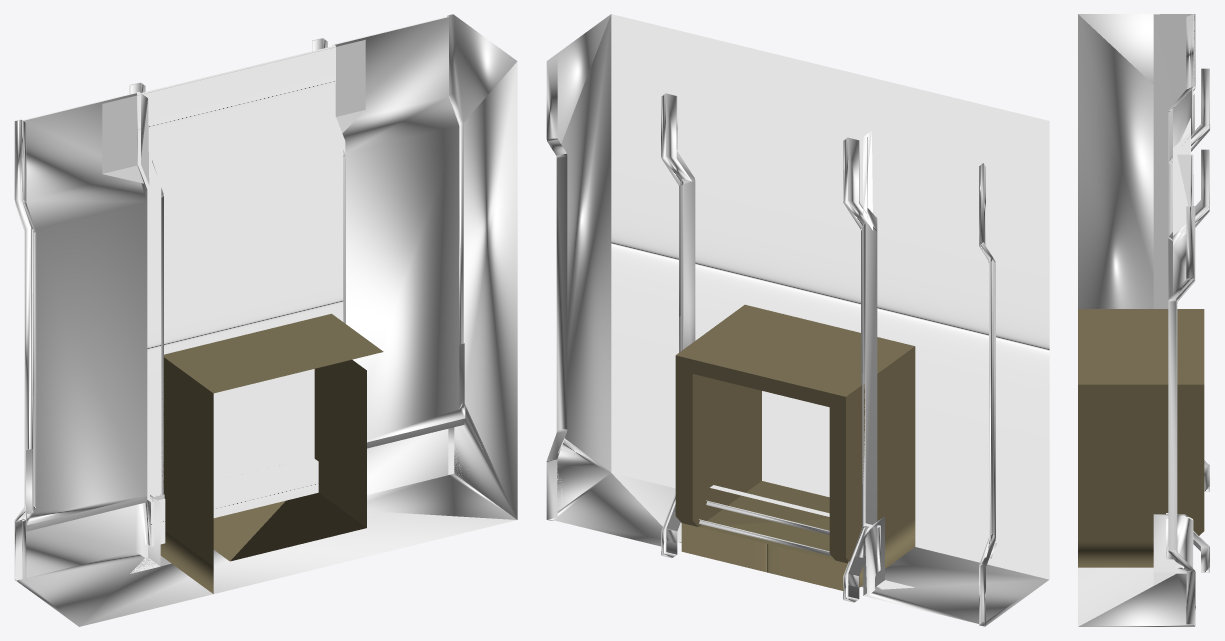
The model's file is roomsm_wall_straight_vent_bottom_04x01x04_a.glb.
The picture shows the model from 3 angles, left to right: view 1: azimuth 30°, elevation 25°; view 2: azimuth 150°, elevation 25°; view 3: azimuth 270°, elevation 25°; orthographic projection. The views are drawn at different scales.
Bounding box in the file's own units: 4 × 4 × 1.15.
